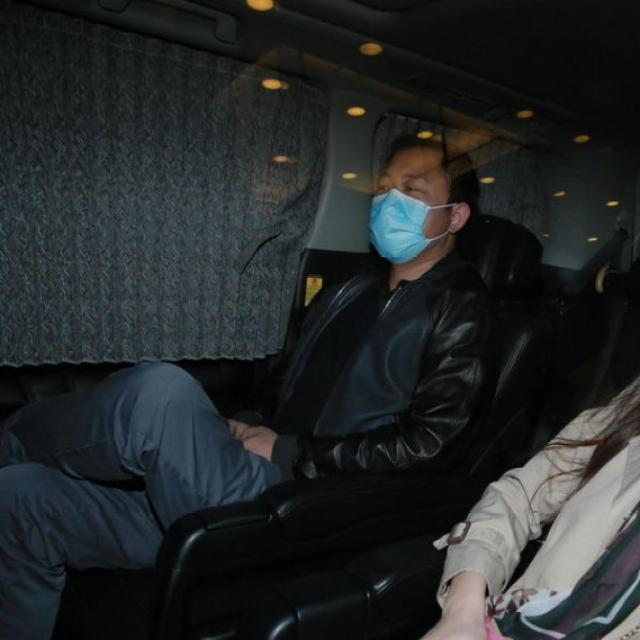mask: (372, 156, 440, 261)
